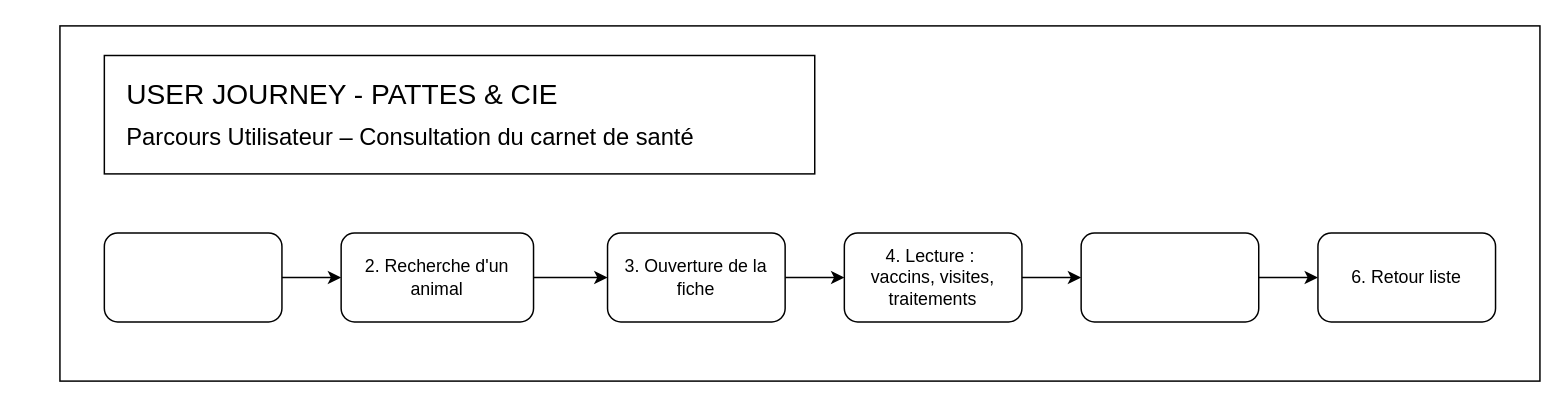
The diagram is 1566 pixels wide and 407 high, and some of its shapes have lost their labels. Here are the shapes that lost their labels. From the top down, the centre of each, then its label:
point (192, 277): 1. Arrivée sur l'interface
point (1169, 277): 5.Consultation vétérinaire
